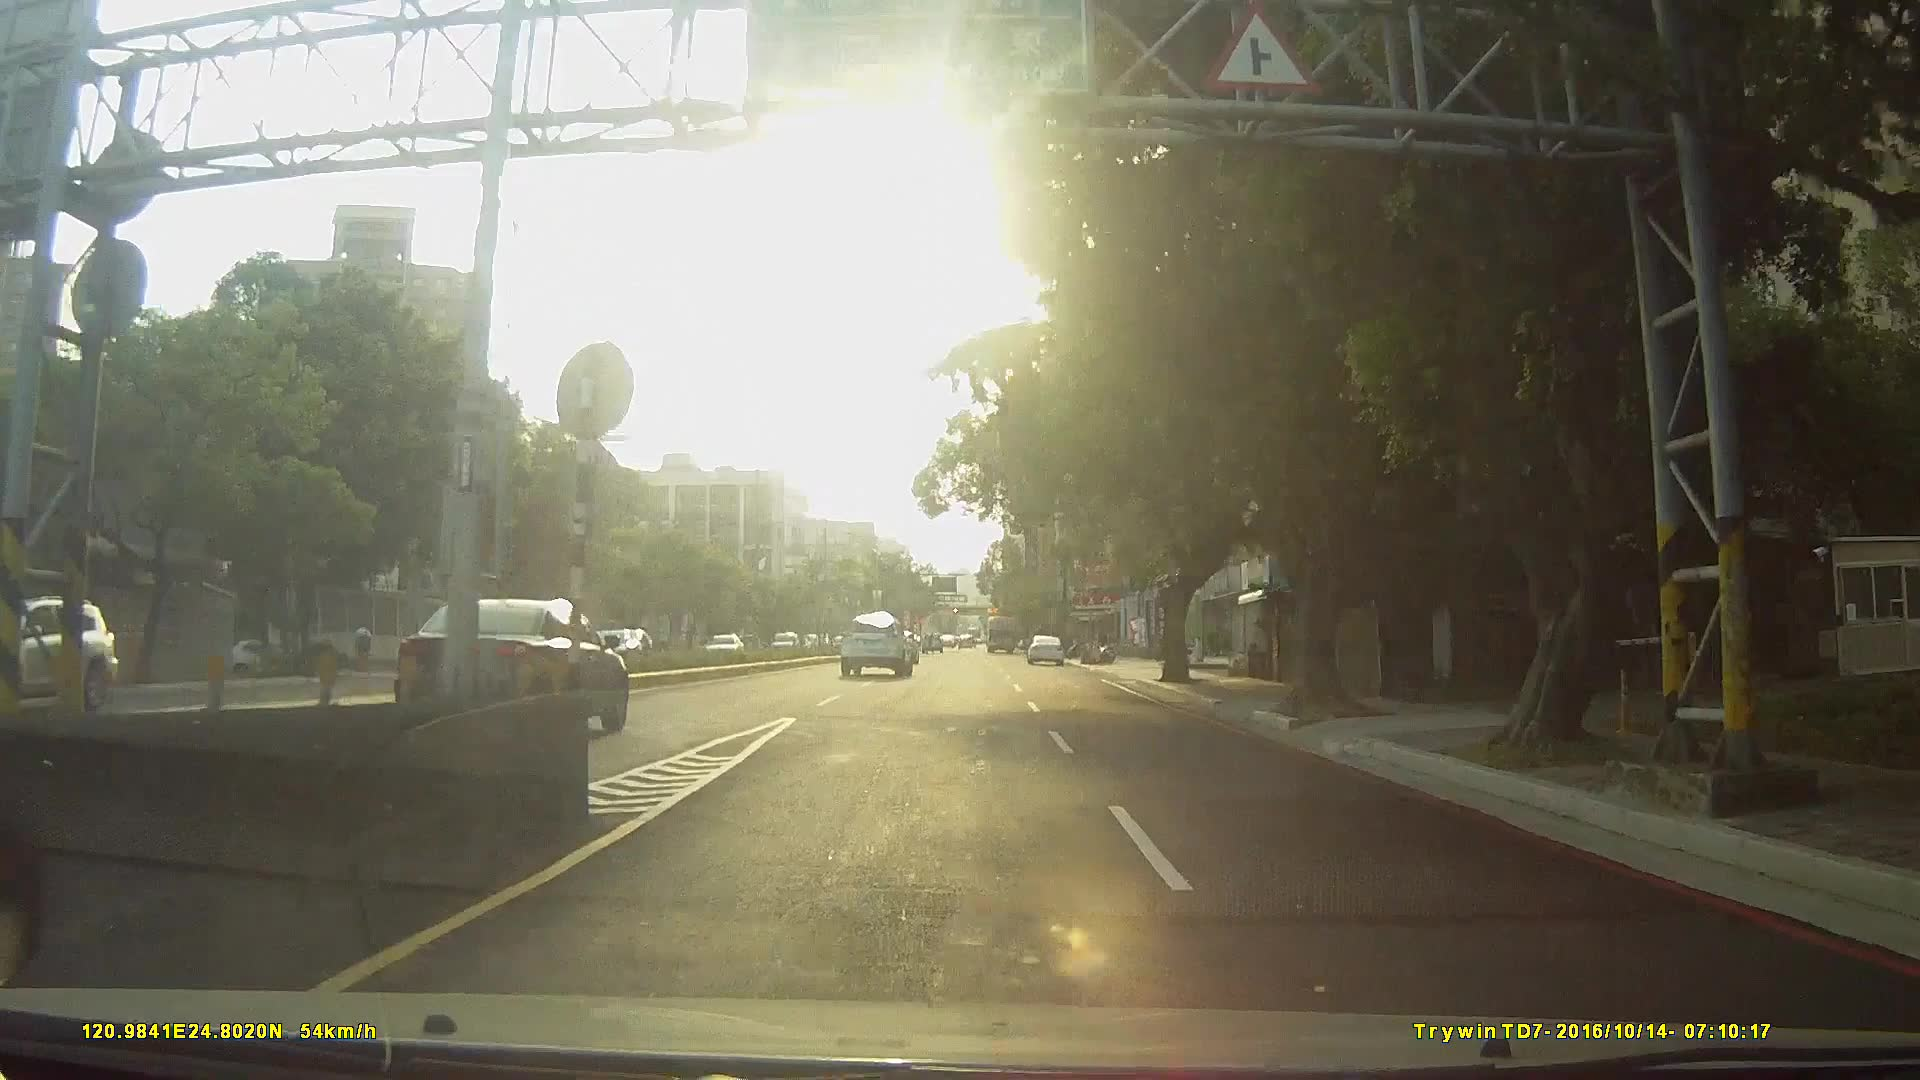pedestrian: (354, 623, 378, 677)
vehicle: (393, 595, 630, 736), (837, 609, 914, 676), (1025, 632, 1066, 667), (983, 612, 1016, 653)
